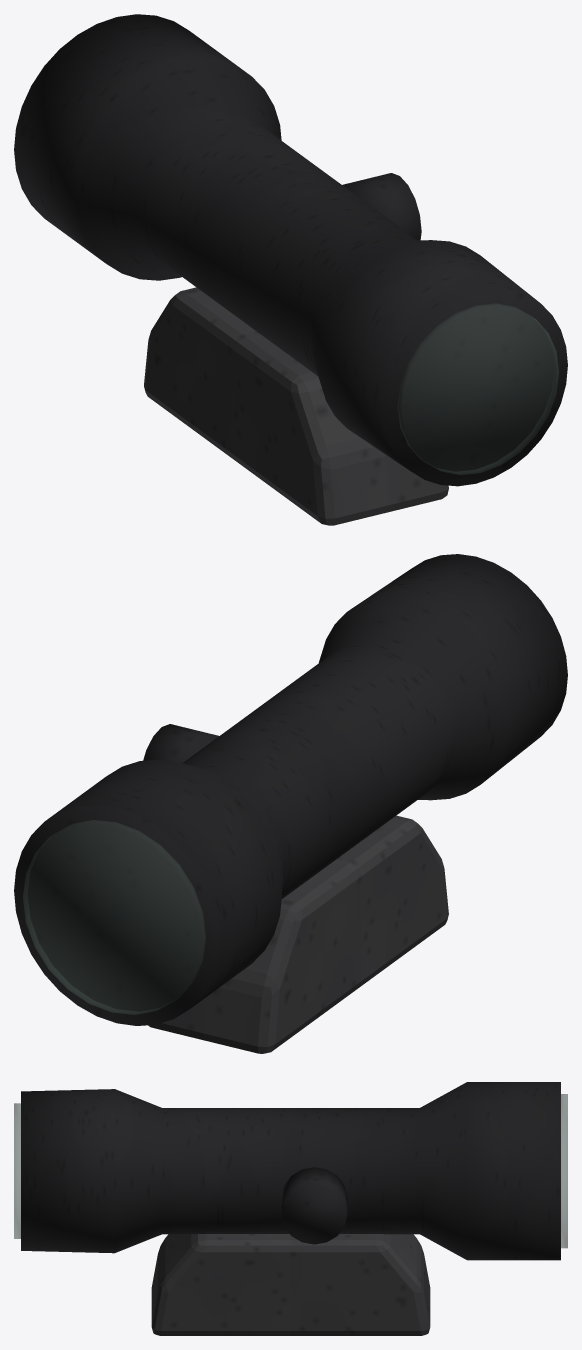
The model's file is scope_2x.glb.
3 renders of one model, top to bottom at view 1: azimuth 30°, elevation 25°; view 2: azimuth 150°, elevation 25°; view 3: azimuth 270°, elevation 25°, orthographic. The views are drawn at different scales.
Parts seen in each view (by area): view 1: tube, mount, lens_r, knob; view 2: tube, mount, lens_f, knob; view 3: tube, mount, knob, lens_f, lens_r.
Part boxes in pixels (left/top/right/bottom): tube: left=14, top=14, right=567, bottom=486; mount: left=144, top=287, right=448, bottom=525; lens_r: left=398, top=303, right=558, bottom=475; knob: left=342, top=173, right=421, bottom=240; tube: left=14, top=554, right=567, bottom=1025; mount: left=148, top=815, right=448, bottom=1053; lens_f: left=23, top=820, right=205, bottom=1014; knob: left=143, top=724, right=218, bottom=763; tube: left=21, top=1082, right=560, bottom=1260; mount: left=151, top=1234, right=430, bottom=1335; knob: left=281, top=1167, right=347, bottom=1244; lens_f: left=561, top=1094, right=567, bottom=1248; lens_r: left=14, top=1103, right=20, bottom=1238.
Size of the model in its own units: 0.041 by 0.053 by 0.118.
Materials: 3 (2 with a texture image).
